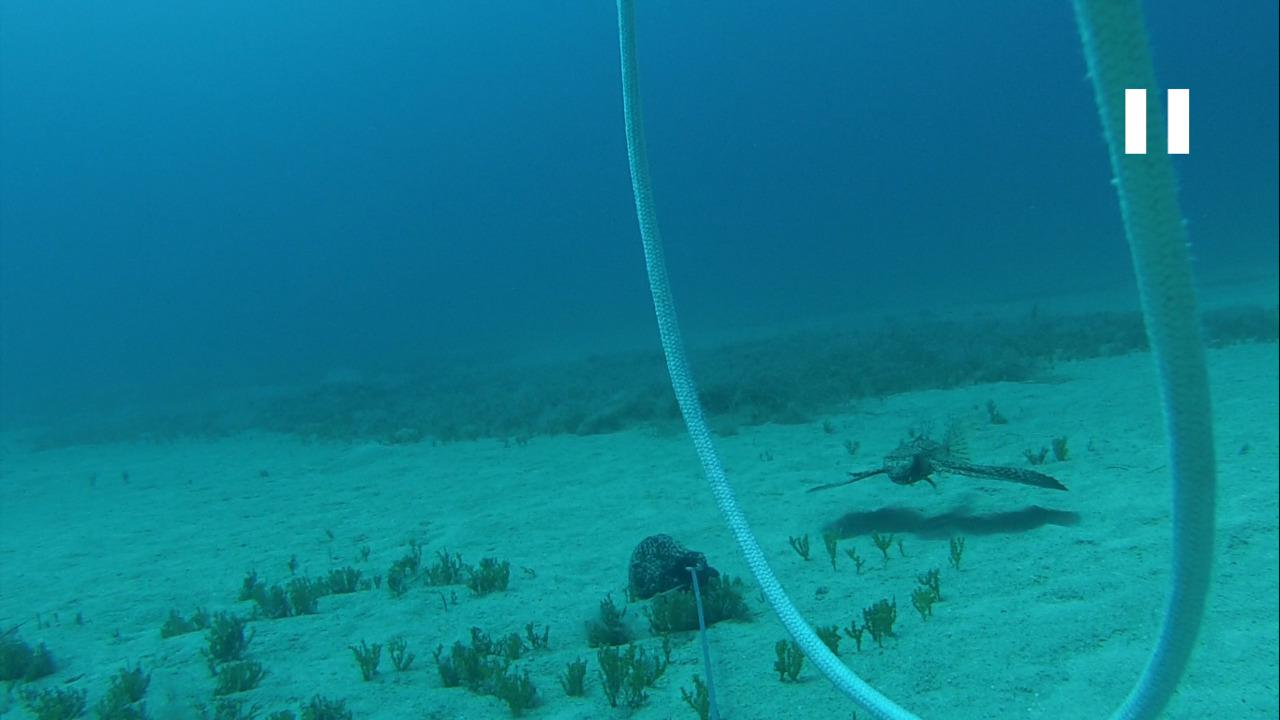dactylopterus: (809, 421, 1070, 502)
